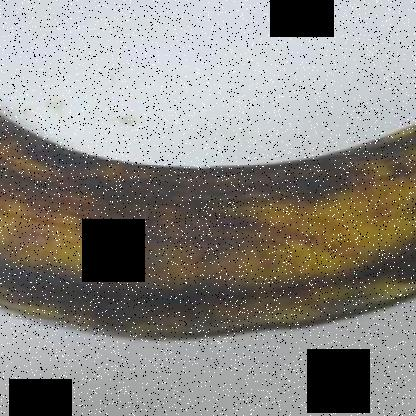overripe: (1, 65, 415, 371)
